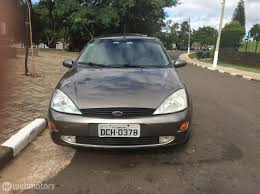car: (46, 34, 190, 151)
